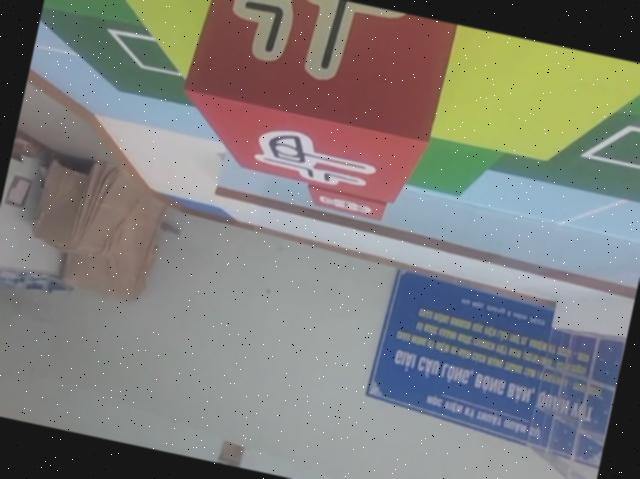R2 Real: (167, 0, 458, 208)
